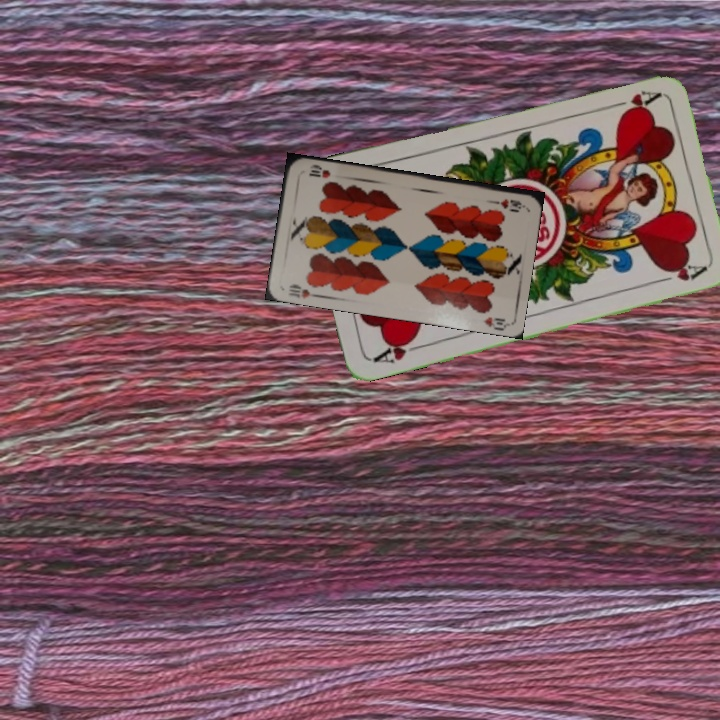H10: (284, 280, 321, 301), (486, 195, 526, 212)
HA: (369, 333, 426, 366), (604, 86, 662, 118)
